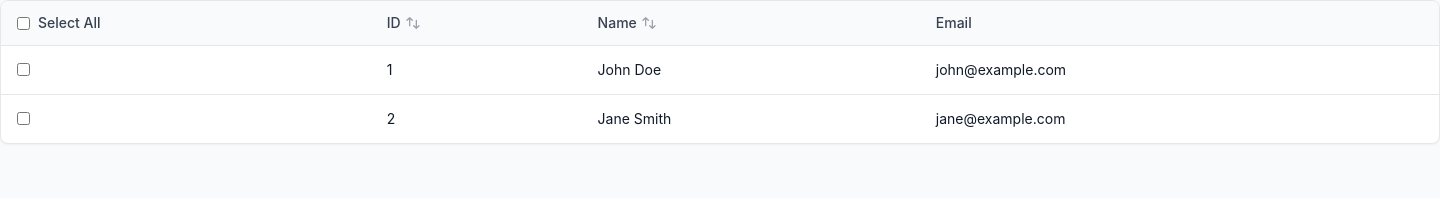
Test case: DataTable › shows selected count when rows are selected
Click the checkbox in the row of "John Doe".
click(24, 70)  # box [17,63,30,76]
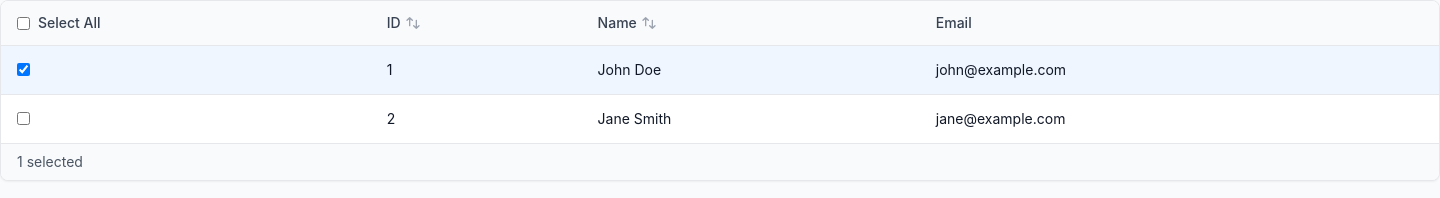
Expected: the text "1 selected" is shown, [17,153,83,170]
